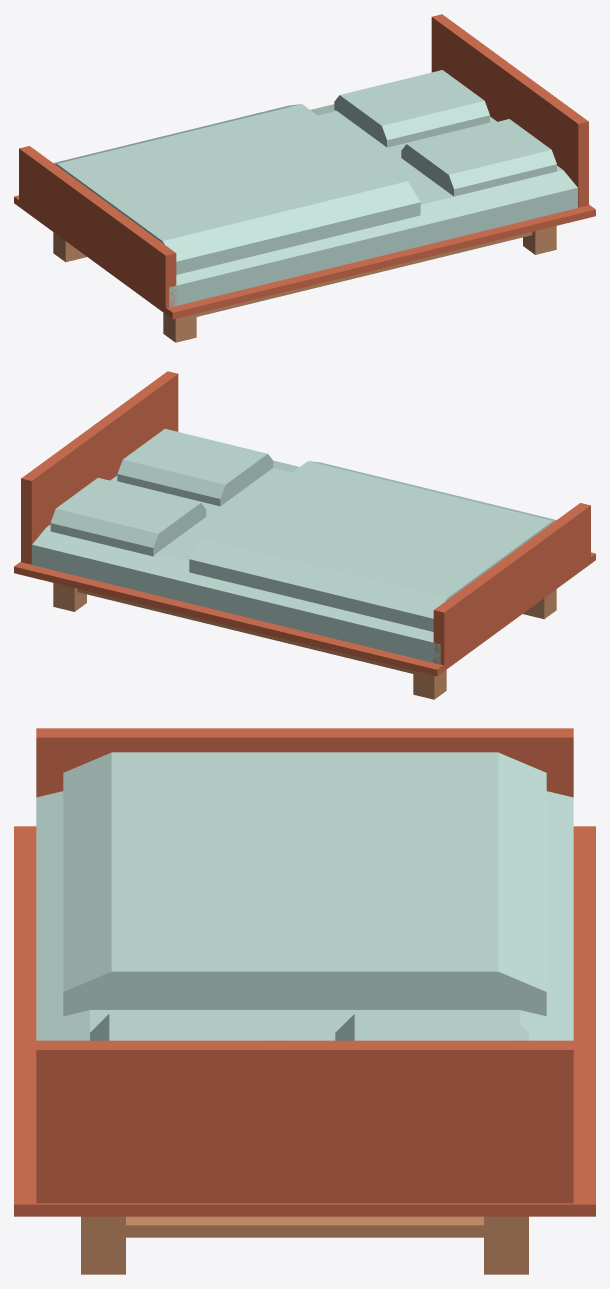
Rendered from Bed.fbx.
3 renders of one model, top to bottom at view 1: azimuth 30°, elevation 25°; view 2: azimuth 150°, elevation 25°; view 3: azimuth 270°, elevation 25°, orthographic. The views are drawn at different scales.
Parts seen in each view (by area): view 1: body_topBackCargo (×4), block (×2), furniture_table; view 2: body_topBackCargo (×4), block (×2), furniture_table; view 3: body_topBackCargo (×4), block (×2), furniture_table.
Part boxes in pixels (x1,y1,x2,y2): body_topBackCargo (×4): (53, 70, 577, 307); block (×2): (19, 14, 588, 308); furniture_table: (14, 195, 595, 342); body_topBackCargo (×4): (32, 428, 556, 664); block (×2): (21, 371, 590, 665); furniture_table: (14, 552, 595, 699); body_topBackCargo (×4): (36, 752, 573, 1040); block (×2): (36, 728, 573, 1203); furniture_table: (14, 826, 595, 1274).
Bounding box in the file's own units: 20.05 × 5.98 × 13.
